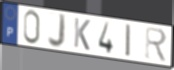0: (23, 9, 41, 46)
4: (97, 21, 116, 56)
I: (124, 23, 132, 59)
J: (47, 13, 68, 50)
K: (73, 16, 92, 52)
R: (144, 26, 169, 64)
